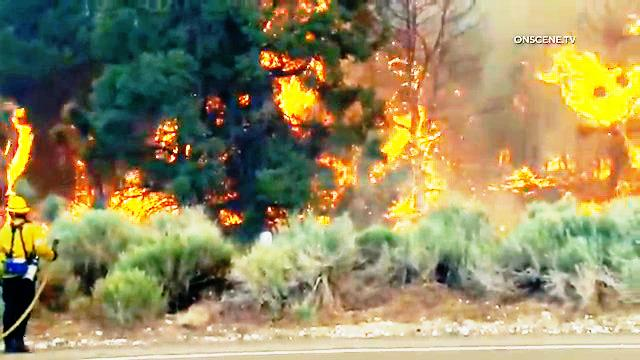fire: (538, 36, 640, 136), (371, 113, 443, 210), (105, 184, 170, 220), (276, 73, 326, 119)
